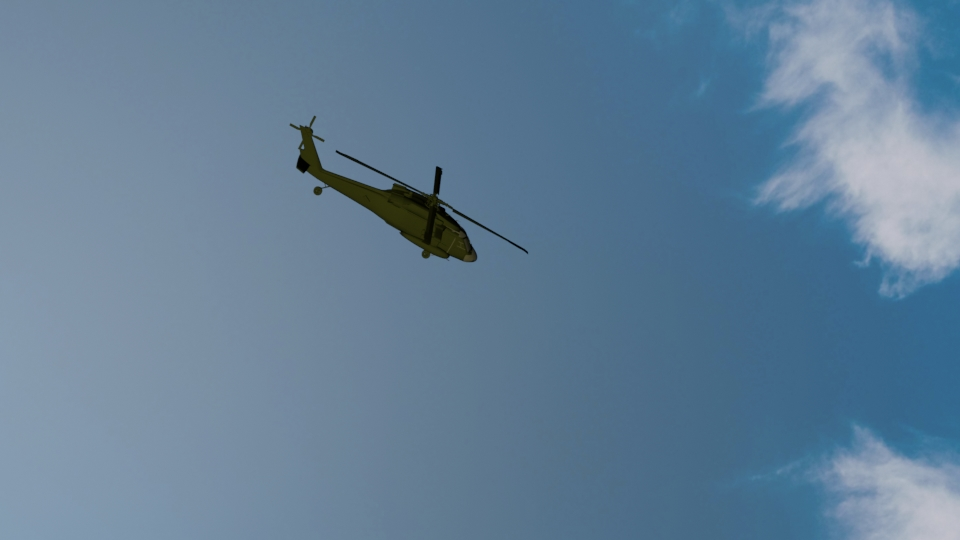heli: (285, 113, 483, 262)
